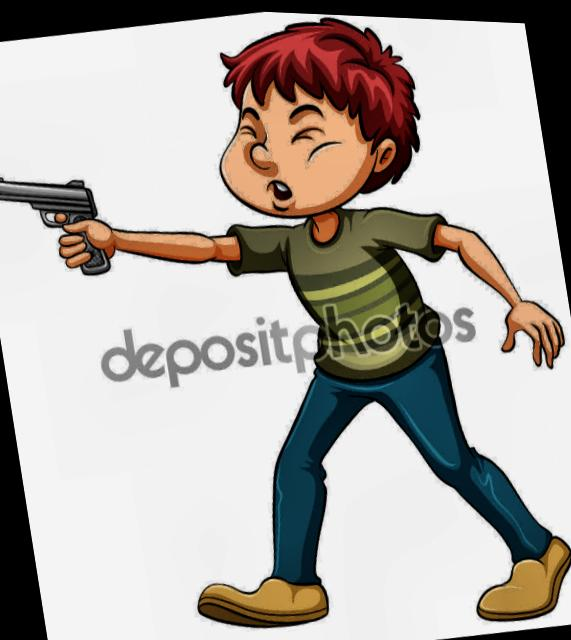pistol: (0, 157, 118, 293)
